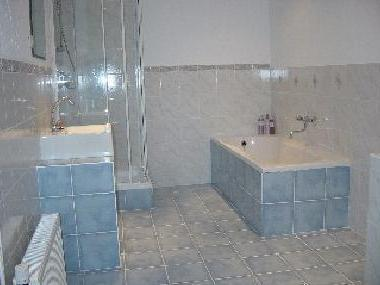Ducha: (45, 0, 151, 211)
